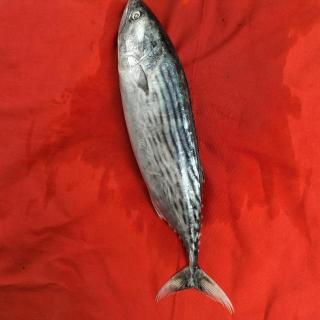Ikan: (107, 4, 237, 312)
